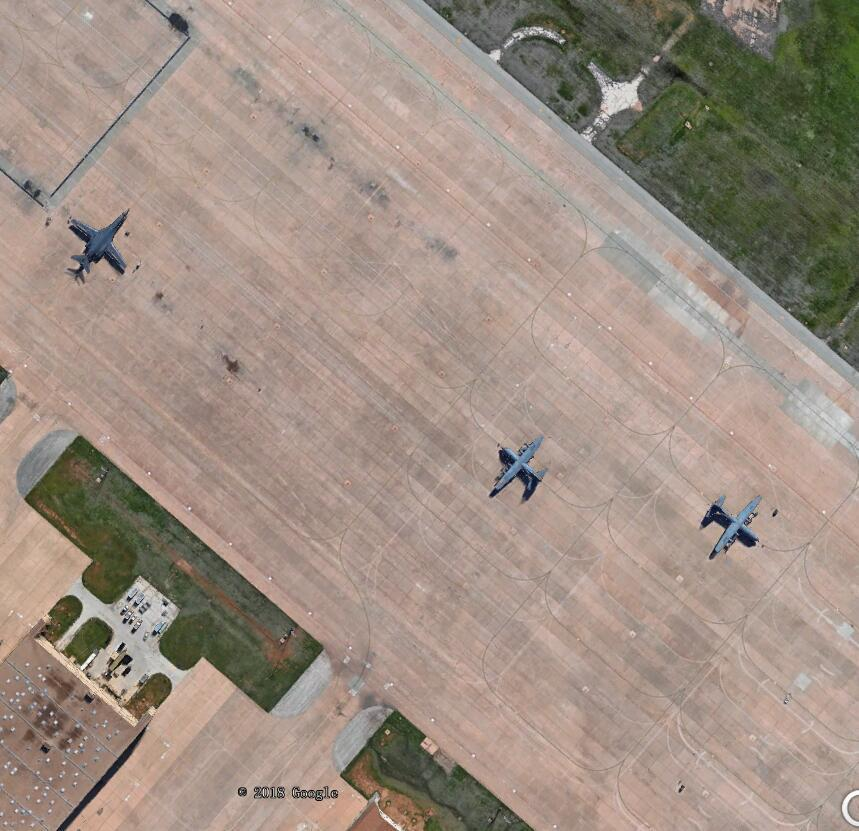A10: (57, 204, 133, 284)
A2: (693, 486, 769, 561), (484, 426, 553, 499)
